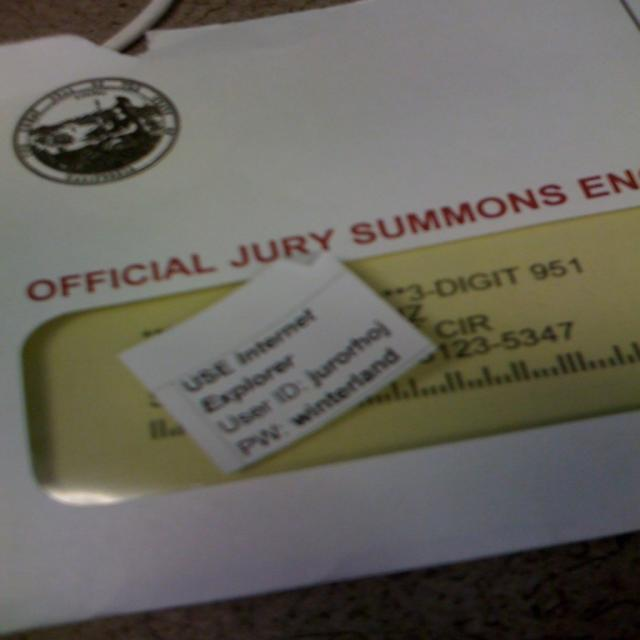Coin: (5, 74, 181, 186)
